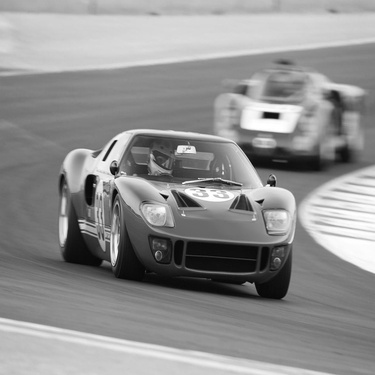car: (36, 86, 323, 328), (203, 49, 358, 160)
